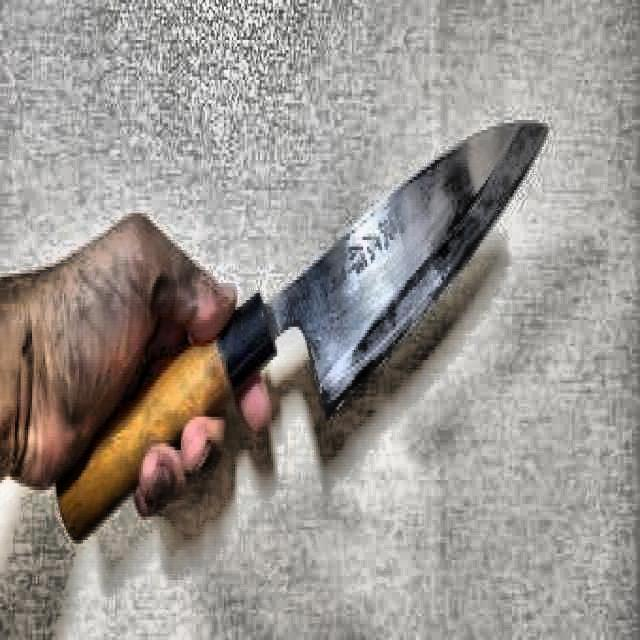knife: (52, 111, 554, 550)
